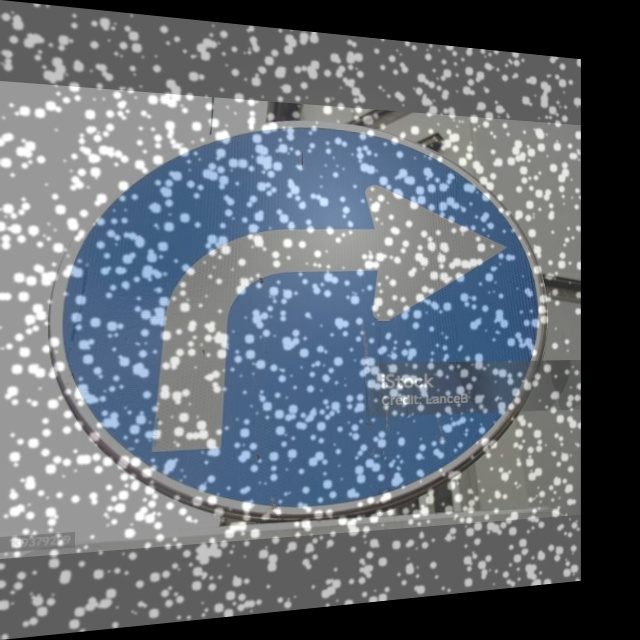Compulsory_Turn_Right_Ahead: (63, 105, 533, 514)
